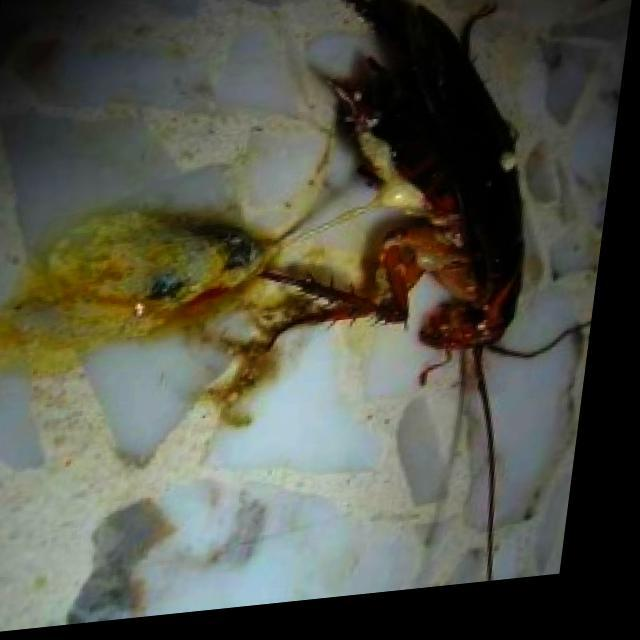cockroach: (318, 0, 550, 420)
